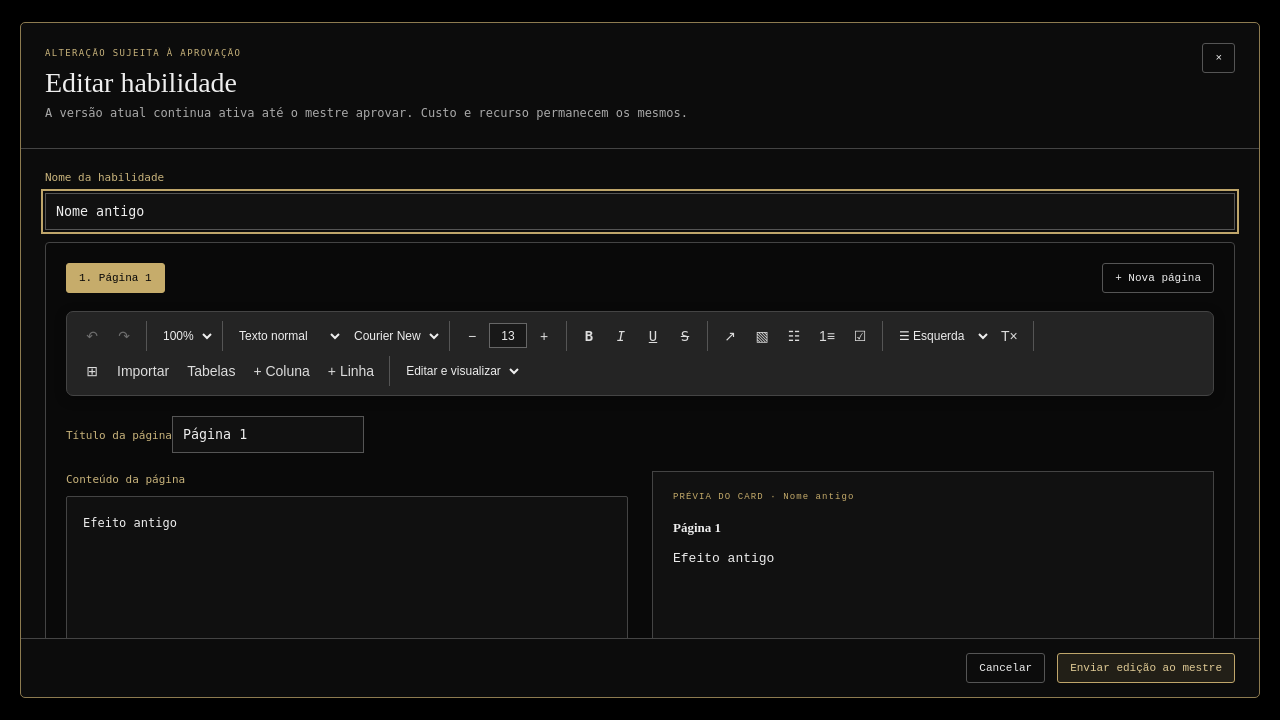
Test: erro mantém edição aberta e o rascunho
Replace the text in the field labelled "Nome da habilidade" with "Rascunho novo": (640, 211) top-left (45, 193), bottom-right (1235, 230)
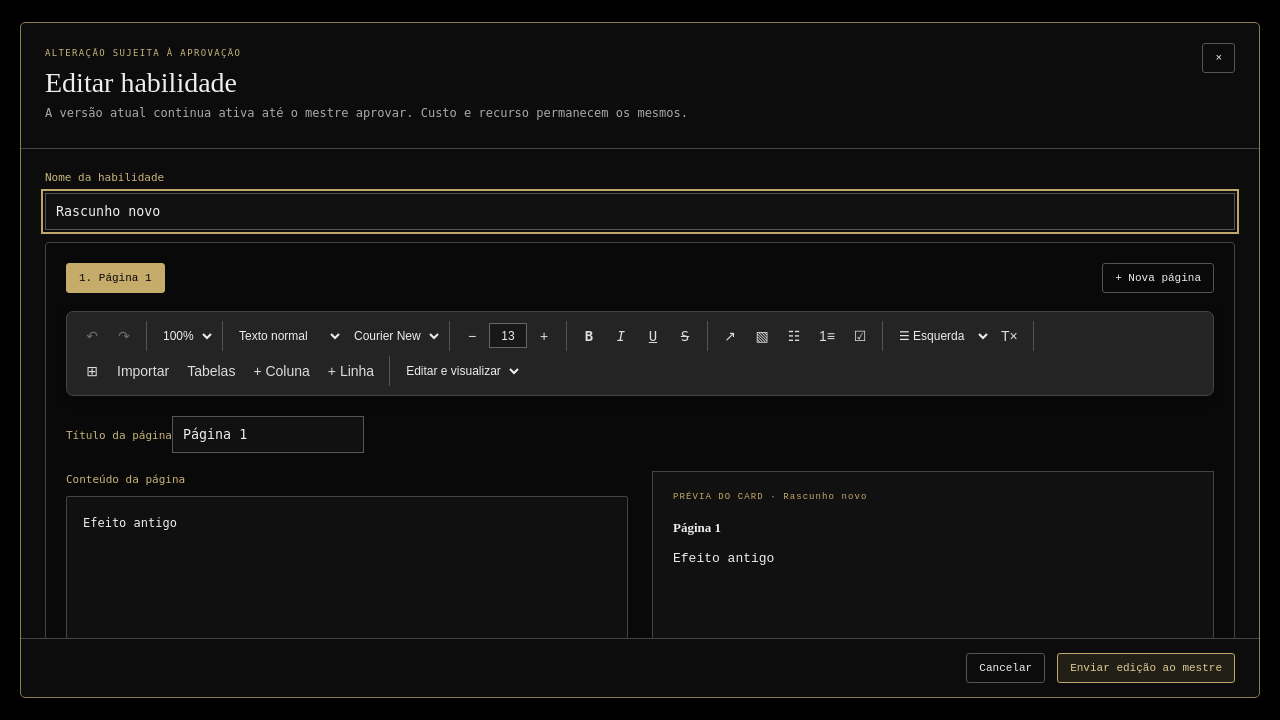
Click the button "Enviar edição ao mestre": (1146, 668) top-left (1057, 653), bottom-right (1235, 683)
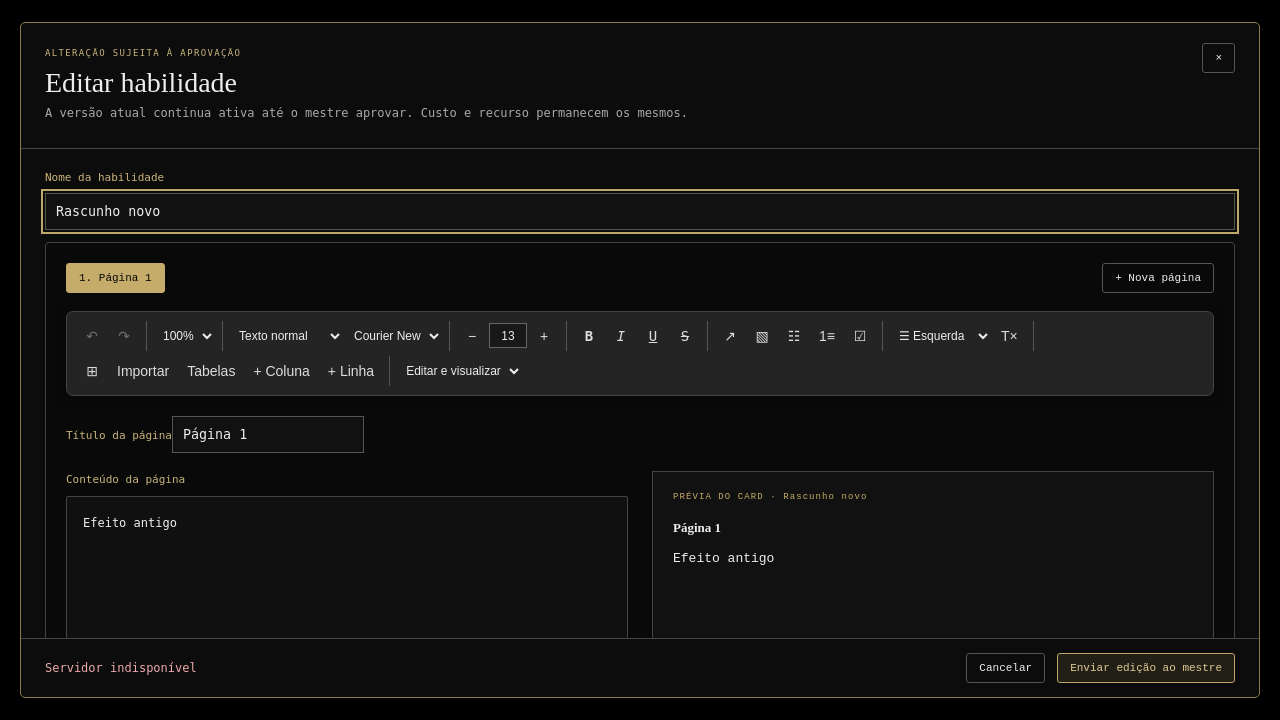
Result: the message reads "Servidor indisponível" at top-left (45, 661), bottom-right (197, 675)
